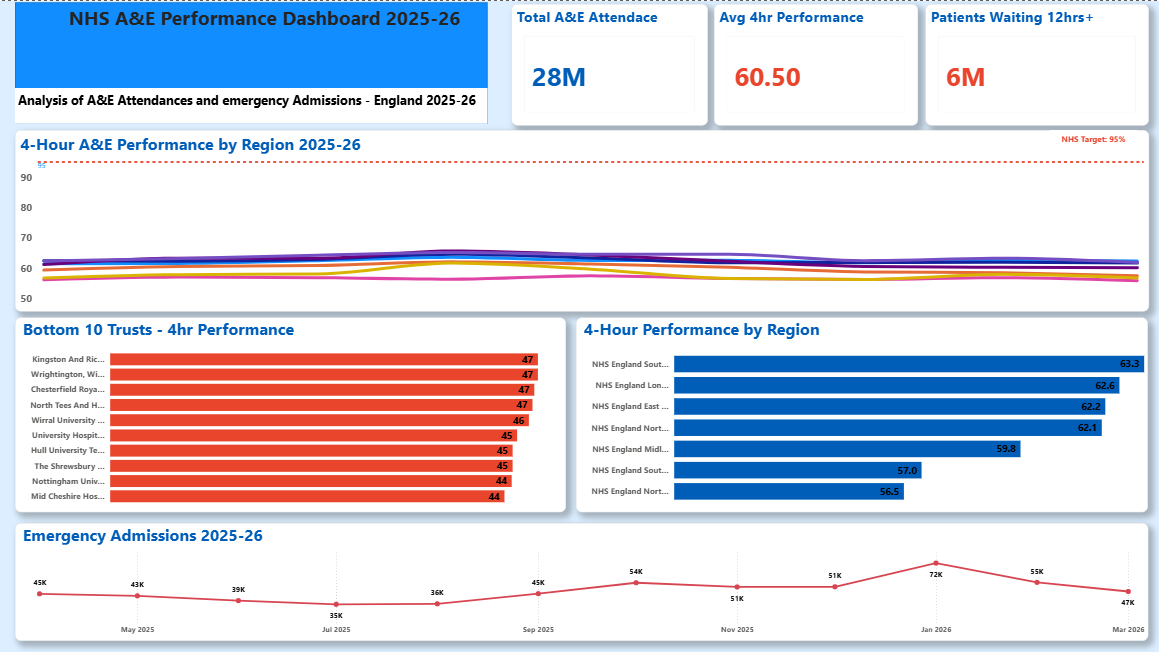

The page's visual inventory and layout, read from the dashboard file:
{"tool":"powerbi","page":{"name":"Page 1","canvas":[1920,1080],"ordinal":0},"visuals":[{"type":"shape","box":[24.8,2.5,782.7,201.3],"z":0},{"type":"cardVisual","title":"Total A&E Attendace","fields":{"Data":["Sum(12hr Waits.total_attendances)"]},"box":[847.3,5,325.5,201.3],"z":1000},{"type":"cardVisual","title":"Avg 4hr Performance","fields":{"Data":["Regional Comparison.Avg 4hr Performance"]},"box":[1182.7,5,337.9,201.3],"z":2000},{"type":"cardVisual","title":"Patients Waiting 12hrs+","fields":{"Data":["Sum(12hr Waits.total_12hr_waits)"]},"box":[1533.1,5,370.2,201.3],"z":3000},{"type":"lineChart","title":"4-Hour A&E Performance by Region 2025-26","fields":{"Y":["Sum(Regional Trend.avg_4hr_performance)"],"Series":["Regional Trend.region"],"Category":["Regional Trend.period.Variation.Date Hierarchy.Year","Regional Trend.period.Variation.Date Hierarchy.Quarter","Regional Trend.period.Variation.Date Hierarchy.Month","Regional Trend.period.Variation.Date Hierarchy.Day"]},"box":[24.8,213.7,1878.4,300.7],"z":4000},{"type":"textbox","box":[1739.3,213.7,144.1,47.2],"z":5000},{"type":"clusteredBarChart","title":"Bottom 10 Trusts - 4hr Performance","fields":{"Category":["Bottom 10 Trusts.trust_name"],"Y":["Sum(Bottom 10 Trusts.avg_4hr_performance)"]},"box":[25,525,912.5,322.5],"z":6000},{"type":"clusteredBarChart","title":"4-Hour Performance by Region","fields":{"Category":["Regional Comparison.region"],"Y":["Regional Comparison.Avg 4hr Performance"]},"box":[955,525,947.5,322.5],"z":7000},{"type":"lineChart","title":"Emergency Admissions 2025-26","fields":{"Y":["Sum(Emergency Admissions.total_emergency_admissions)"],"Category":["Emergency Admissions.period"]},"box":[25,865,1877.5,195],"z":8000},{"type":"textbox","box":[24.8,0,782.7,144.1],"z":9000},{"type":"textbox","box":[24.8,144.1,782.7,59.6],"z":10000}]}

Visuals, with their boxes in screenshot pixels (x1, y1, x2, y2), scaled from the page's 1920x1080 canvas onto the 1159x652 screenshot:
shape: 15, 2, 487, 123
"Total A&E Attendace" cardVisual: 511, 3, 708, 125
"Avg 4hr Performance" cardVisual: 714, 3, 918, 125
"Patients Waiting 12hrs+" cardVisual: 925, 3, 1149, 125
"4-Hour A&E Performance by Region 2025-26" lineChart: 15, 129, 1149, 311
textbox: 1050, 129, 1137, 158
"Bottom 10 Trusts - 4hr Performance" clusteredBarChart: 15, 317, 566, 512
"4-Hour Performance by Region" clusteredBarChart: 576, 317, 1148, 512
"Emergency Admissions 2025-26" lineChart: 15, 522, 1148, 640
textbox: 15, 0, 487, 87
textbox: 15, 87, 487, 123
